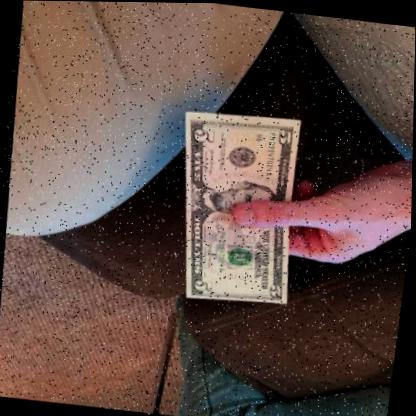five-front: (159, 104, 307, 309)
